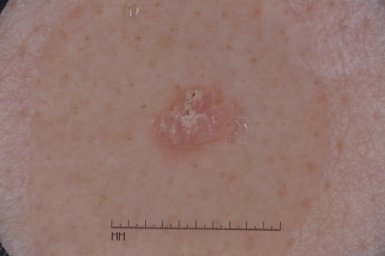seborrheic keratosis: (134, 80, 271, 168)
